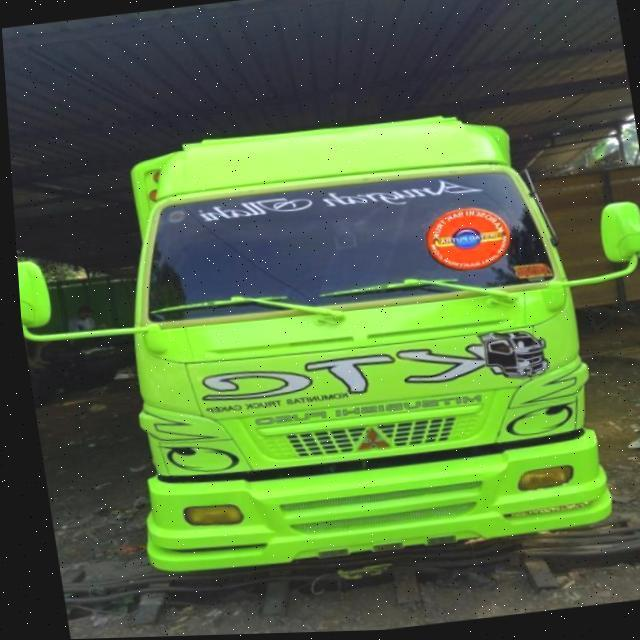truck: (6, 93, 640, 590)
